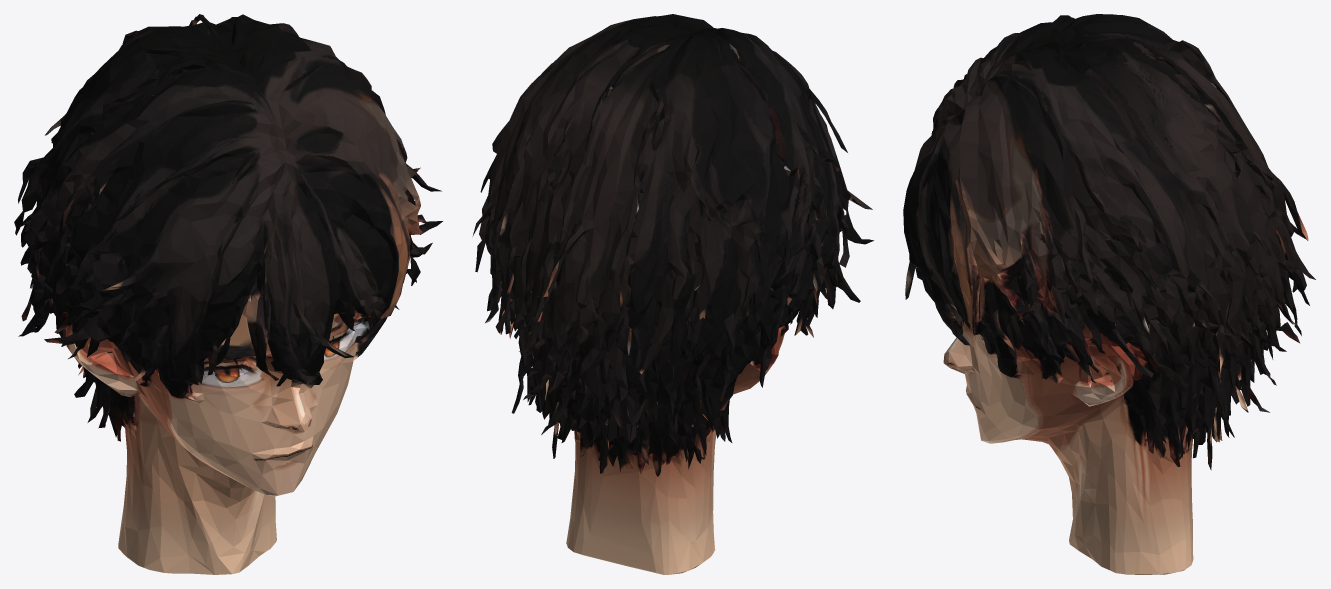
The model's file is side_tama_repaired_atlas.glb.
3 renders of one model, left to right at view 1: azimuth 30°, elevation 25°; view 2: azimuth 150°, elevation 25°; view 3: azimuth 270°, elevation 25°, orthographic. The views are drawn at different scales.
Visible parts, largest first — view 1: temp_mesh.ply; view 2: temp_mesh.ply; view 3: temp_mesh.ply.
Part boxes in pixels (x1,y1,x2,y2): temp_mesh.ply: [14, 14, 442, 574]; temp_mesh.ply: [472, 14, 873, 574]; temp_mesh.ply: [903, 14, 1315, 574].
Size of the model in its own units: 1.5 by 1.97 by 1.46.
Materials: 1 (1 with a texture image).
